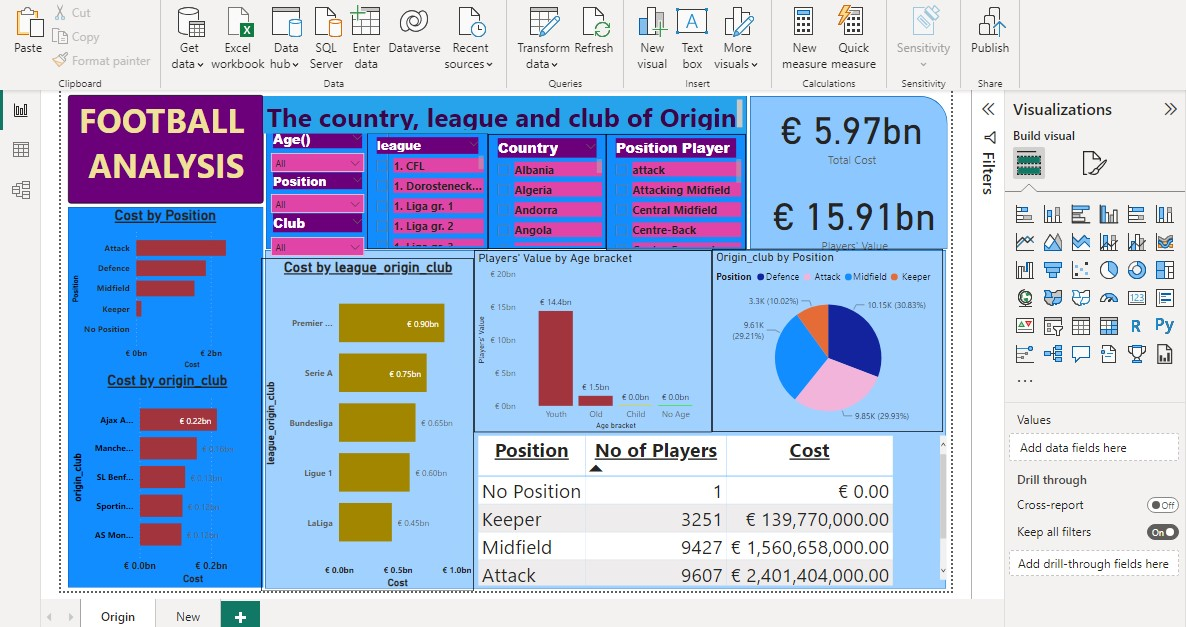

The page's visual inventory and layout, read from the dashboard file:
{"tool":"powerbi","page":{"name":"Origin","canvas":[1280,720],"ordinal":0},"visuals":[{"type":"shape","box":[293.8,230.4,979.2,486.7],"z":0},{"type":"shape","box":[10.1,168.5,280.8,547.2],"z":1000},{"type":"shape","box":[469.4,8.6,515.5,220.3],"z":2000},{"type":"shape","box":[990.7,8.6,283.7,220.3],"z":3000},{"type":"textbox","box":[10.1,7.2,280.8,155.5],"z":4000},{"type":"shape","box":[294.6,8.6,175.3,219.9],"z":5000},{"type":"slicer","fields":{"Values":["SummerTransfersFootball22.Age bracket"]},"box":[291.7,51.7,153.8,71.9],"z":6000},{"type":"slicer","fields":{"Values":["SummerTransfersFootball22.Position"]},"box":[291.7,113.5,153.8,69],"z":7000},{"type":"card","fields":{"Values":["SummerTransfersFootball22.Player Value"]},"box":[1002.3,131.5,277.7,110.1],"z":8000},{"type":"slicer","fields":{"Values":["SummerTransfersFootball22.league_origin_club"]},"box":[439.8,61.8,173.9,166.7],"z":9000},{"type":"slicer","fields":{"Values":["SummerTransfersFootball22.country_origin_club"]},"box":[613.7,63.2,169.6,165.3],"z":10000},{"type":"card","fields":{"Values":["SummerTransfersFootball22.Cost income"]},"box":[997.1,11.5,279.4,102.2],"z":11000},{"type":"barChart","fields":{"Category":["SummerTransfersFootball22.origin_club"],"Y":["SummerTransfersFootball22.Cost income"]},"box":[10.1,405.3,286,310.4],"z":12000},{"type":"columnChart","fields":{"Category":["SummerTransfersFootball22.Age bracket"],"Y":["SummerTransfersFootball22.Player Value"]},"box":[593.5,229.9,342,261.6],"z":13000},{"type":"barChart","fields":{"Y":["SummerTransfersFootball22.Cost income"],"Category":["SummerTransfersFootball22.league_origin_club"]},"box":[287.4,241.4,306.1,478.6],"z":14000},{"type":"barChart","fields":{"Category":["SummerTransfersFootball22.Player Position"],"Y":["SummerTransfersFootball22.Cost income"]},"box":[10.1,168.1,280.2,237.1],"z":15000},{"type":"pieChart","fields":{"Category":["SummerTransfersFootball22.Player Position"],"Y":["SummerTransfersFootball22.origin_club"]},"box":[935.6,228.5,332,263],"z":16000},{"type":"tableEx","fields":{"Values":["SummerTransfersFootball22.Position","SummerTransfersFootball22.Name","SummerTransfersFootball22.Cost"]},"box":[593.5,491.5,684.1,225.6],"z":17000},{"type":"textbox","box":[290.6,8.4,693.8,53.8],"z":18000},{"type":"slicer","fields":{"Values":["SummerTransfersFootball22.Position Player"]},"box":[783.2,63.2,201.2,166.7],"z":19000},{"type":"slicer","fields":{"Values":["SummerTransfersFootball22.origin_club"]},"box":[291.7,172.5,153.8,71.9],"z":20000}]}

Visuals, with their boxes on the page's 1280x720 design canvas (x1, y1, x2, y2). These are canvas units, not pixel positions in the 1186x627 screenshot, which may show the page scaled, cropped or inside an application window:
shape: x1=294 y1=230 x2=1273 y2=717
shape: x1=10 y1=168 x2=291 y2=716
shape: x1=469 y1=9 x2=985 y2=229
shape: x1=991 y1=9 x2=1274 y2=229
textbox: x1=10 y1=7 x2=291 y2=163
shape: x1=295 y1=9 x2=470 y2=228
slicer - SummerTransfersFootball22.Age bracket: x1=292 y1=52 x2=446 y2=124
slicer - SummerTransfersFootball22.Position: x1=292 y1=114 x2=446 y2=182
card - SummerTransfersFootball22.Player Value: x1=1002 y1=132 x2=1280 y2=242
slicer - SummerTransfersFootball22.league_origin_club: x1=440 y1=62 x2=614 y2=228
slicer - SummerTransfersFootball22.country_origin_club: x1=614 y1=63 x2=783 y2=228
card - SummerTransfersFootball22.Cost income: x1=997 y1=12 x2=1276 y2=114
barChart - SummerTransfersFootball22.origin_club x SummerTransfersFootball22.Cost income: x1=10 y1=405 x2=296 y2=716
columnChart - SummerTransfersFootball22.Age bracket x SummerTransfersFootball22.Player Value: x1=594 y1=230 x2=936 y2=492
barChart - SummerTransfersFootball22.Cost income x SummerTransfersFootball22.league_origin_club: x1=287 y1=241 x2=594 y2=720
barChart - SummerTransfersFootball22.Player Position x SummerTransfersFootball22.Cost income: x1=10 y1=168 x2=290 y2=405
pieChart - SummerTransfersFootball22.Player Position x SummerTransfersFootball22.origin_club: x1=936 y1=228 x2=1268 y2=492
tableEx - SummerTransfersFootball22.Position x SummerTransfersFootball22.Name: x1=594 y1=492 x2=1278 y2=717
textbox: x1=291 y1=8 x2=984 y2=62
slicer - SummerTransfersFootball22.Position Player: x1=783 y1=63 x2=984 y2=230
slicer - SummerTransfersFootball22.origin_club: x1=292 y1=172 x2=446 y2=244
